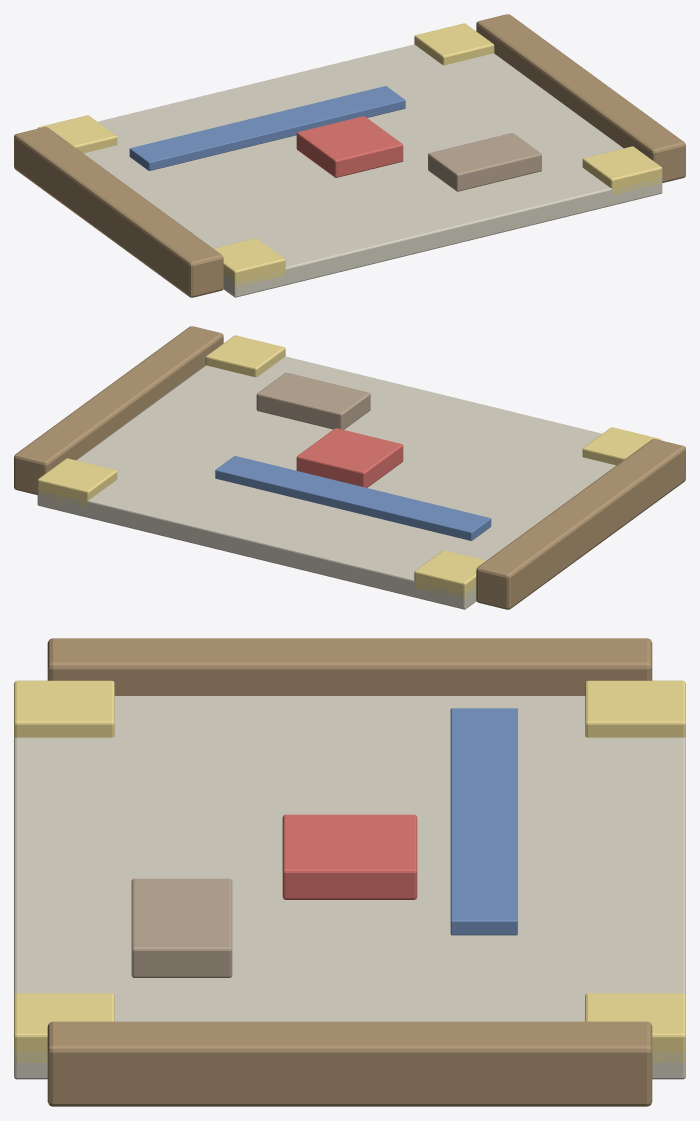
The model's file is master_chart.glb.
3 renders of one model, top to bottom at view 1: azimuth 30°, elevation 25°; view 2: azimuth 150°, elevation 25°; view 3: azimuth 270°, elevation 25°, orthographic. The views are drawn at different scales.
Visible parts, largest first — view 1: Vellum, Roller_L, Roller_R, River, Seal, Hill, Orn_3, Orn_2, Orn_1, Orn_0; view 2: Vellum, Roller_L, Roller_R, River, Hill, Seal, Orn_1, Orn_0, Orn_3, Orn_2; view 3: Vellum, Roller_R, Roller_L, River, Seal, Hill, Orn_0, Orn_2, Orn_1, Orn_3.
Boxes of the visible parts, box(x1,y1,x2,y2) form: Vellum: box(83, 44, 662, 297); Roller_L: box(14, 127, 223, 297); Roller_R: box(476, 14, 685, 182); River: box(129, 86, 405, 170); Seal: box(296, 116, 403, 177); Hill: box(428, 133, 541, 191); Orn_3: box(582, 146, 662, 195); Orn_2: box(213, 238, 285, 287); Orn_1: box(414, 23, 494, 65); Orn_0: box(37, 115, 117, 153); Vellum: box(37, 356, 616, 609); Roller_L: box(476, 439, 685, 609); Roller_R: box(14, 326, 223, 494); River: box(215, 456, 491, 540); Hill: box(256, 372, 370, 429); Seal: box(296, 428, 403, 487); Orn_1: box(37, 458, 117, 507); Orn_0: box(414, 550, 486, 599); Orn_3: box(205, 335, 285, 377); Orn_2: box(582, 427, 662, 465); Vellum: box(14, 696, 685, 1079); Roller_R: box(47, 1021, 652, 1106); Roller_L: box(47, 638, 652, 695); River: box(450, 708, 517, 935); Seal: box(282, 814, 417, 899); Hill: box(131, 878, 232, 977); Orn_0: box(585, 680, 685, 738); Orn_2: box(14, 680, 114, 738); Orn_1: box(585, 993, 685, 1062); Orn_3: box(14, 993, 114, 1062).
Bounding box in the file's own units: 0.58 × 0.04 × 0.4.
